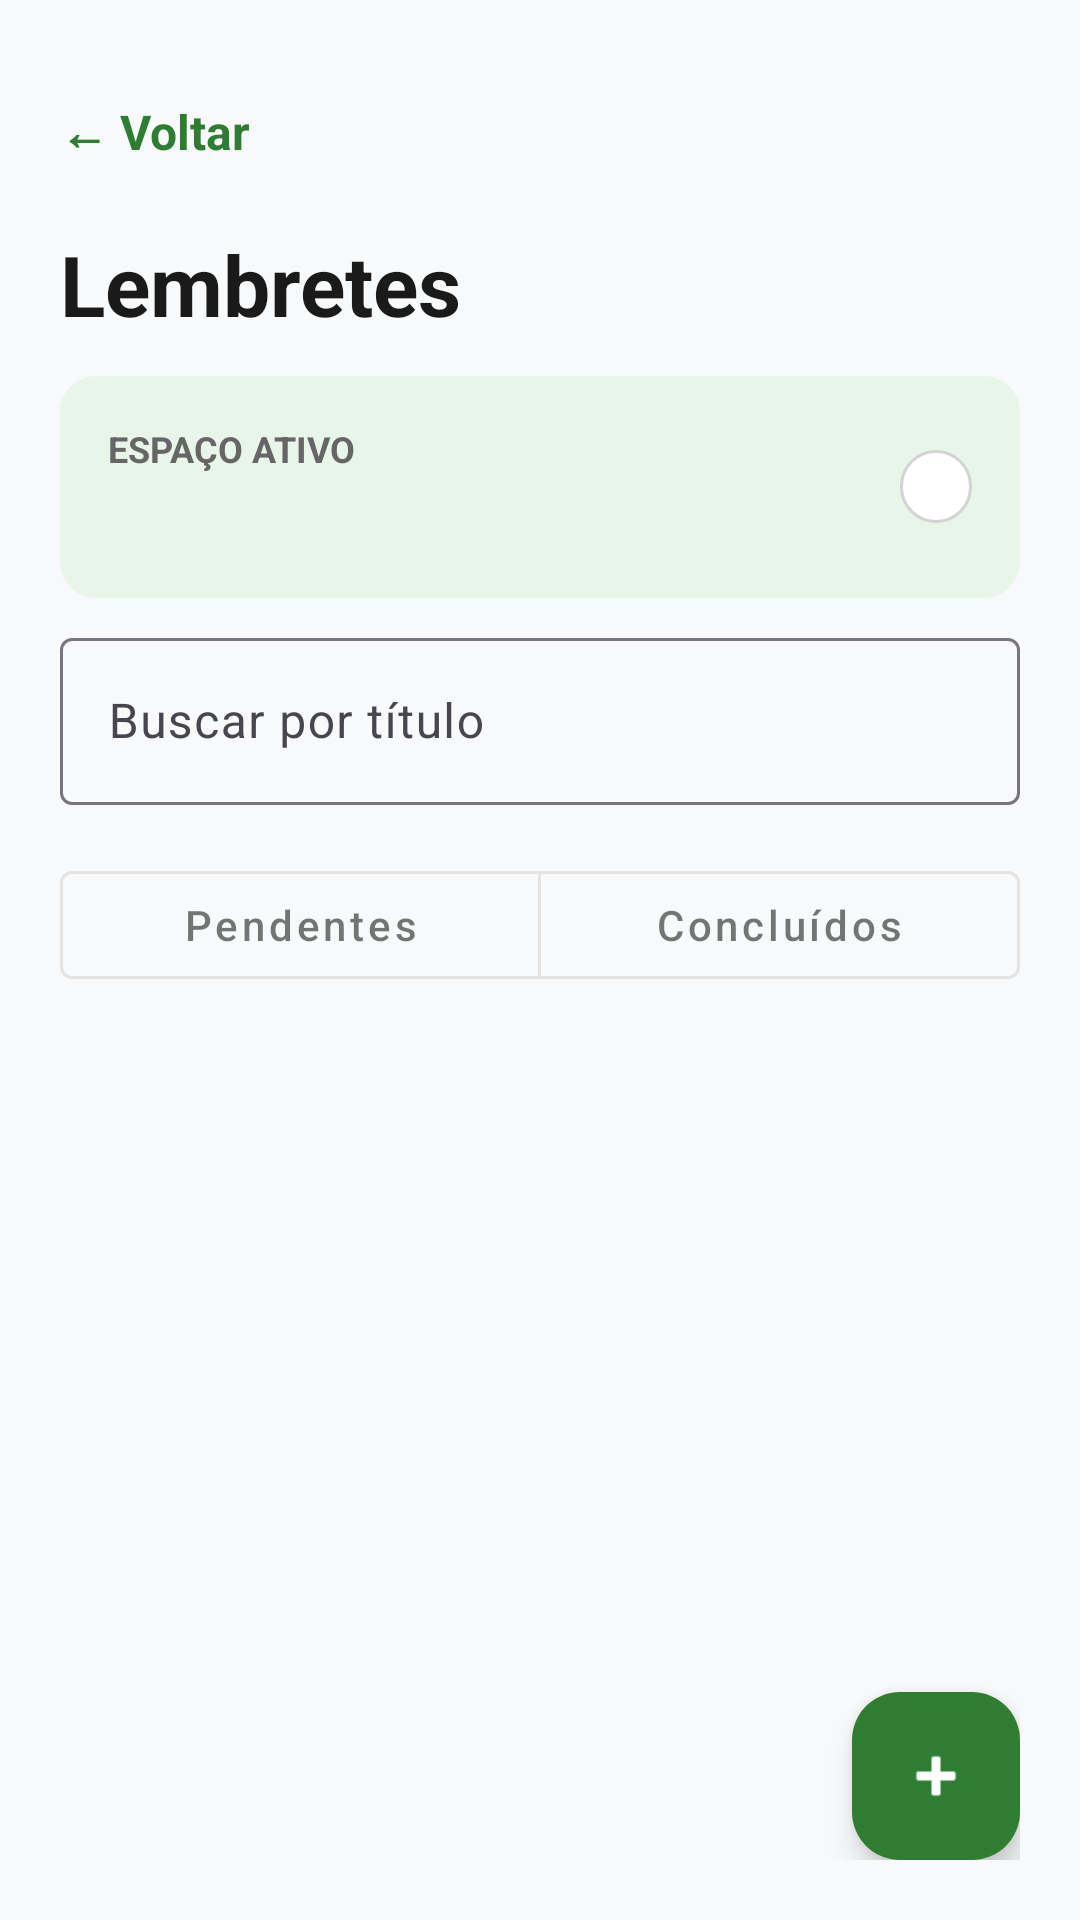

Screen size 1080 × 1920. Icon name, then its box in pixels as BBox(x1, y1, x2, y2):
Adicionar lembrete: BBox(852, 1692, 1020, 1860)
